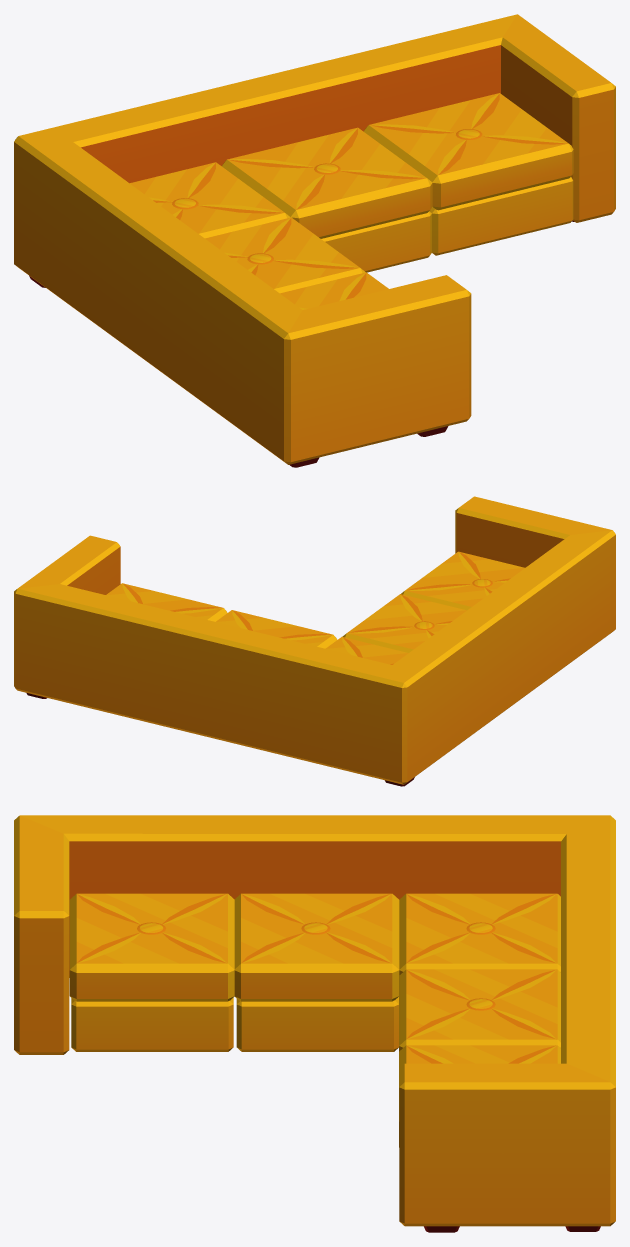
The model's file is sofa_a.fbx.
3 views of the same model, one above another, from view 1: azimuth 30°, elevation 25°; view 2: azimuth 150°, elevation 25°; view 3: azimuth 270°, elevation 25° (orthographic). The views are drawn at different scales.
Visible parts, largest first — view 1: furniture_big; view 2: furniture_big; view 3: furniture_big.
Part boxes in pixels (x1,y1,x2,y2): furniture_big: (14,14,615,467); furniture_big: (14,496,615,786); furniture_big: (14,815,615,1232).
Bounding box in the file's own units: 274 × 71.84 × 256.
